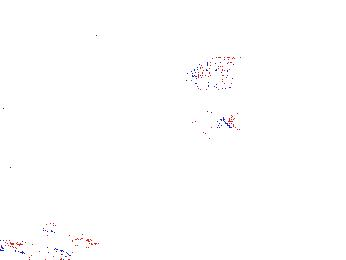X-ray fish: (183, 52, 268, 91)
redtail glassfish: (167, 108, 240, 135), (1, 242, 81, 260)
